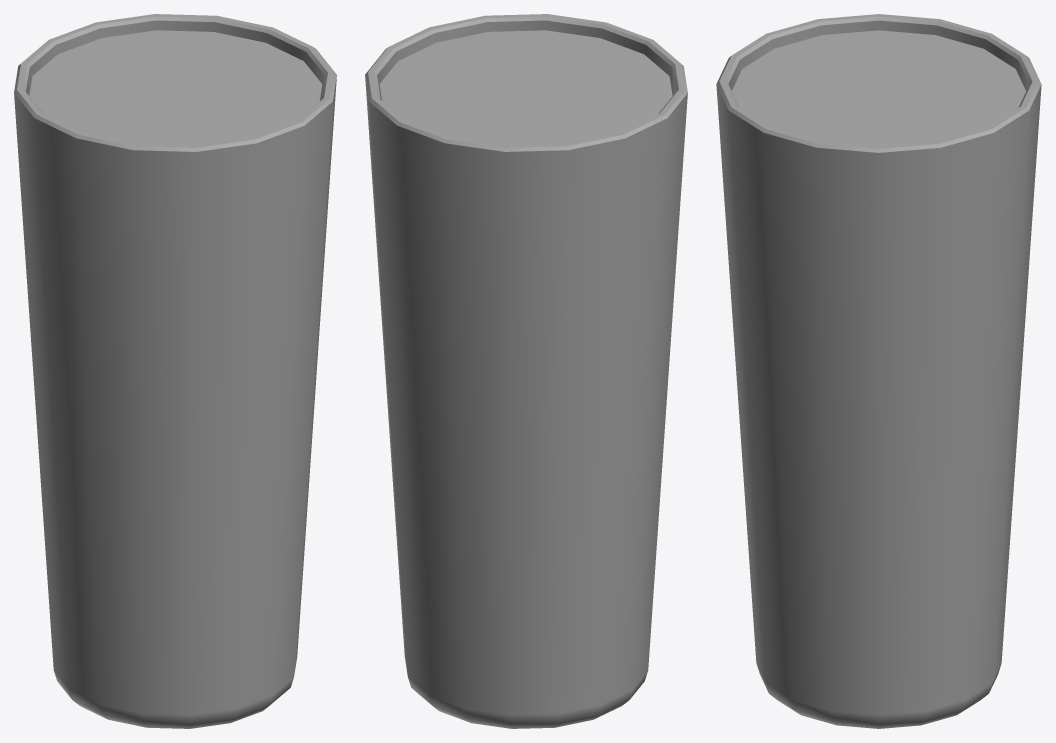
Rendered from Long glass.fbx.
3 views of the same model, side by side, from view 1: azimuth 30°, elevation 25°; view 2: azimuth 150°, elevation 25°; view 3: azimuth 270°, elevation 25° (orthographic).
Visible parts, largest first — view 1: Long_glass1, full_Liquid; view 2: Long_glass1, full_Liquid; view 3: Long_glass1, full_Liquid.
Part boxes in pixels (left/top/right/bottom): Long_glass1: left=14, top=14, right=336, bottom=728; full_Liquid: left=29, top=30, right=322, bottom=145; Long_glass1: left=365, top=14, right=687, bottom=728; full_Liquid: left=379, top=30, right=672, bottom=145; Long_glass1: left=716, top=14, right=1041, bottom=728; full_Liquid: left=732, top=30, right=1025, bottom=146.
Bounding box in the file's own units: 0.0733 × 0.1502 × 0.0733.
Materials: 2 (1 with a texture image).
